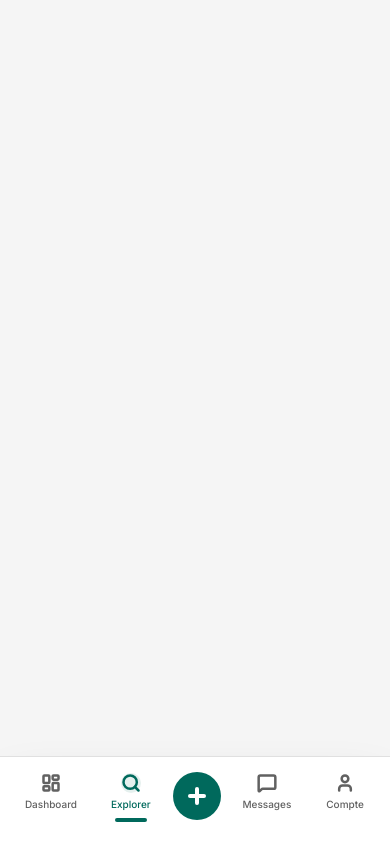
it: BottomNav - logique metier › ouvre le menu Creer au clic sur le bouton central
The image size is (390, 844).
expect the text "gérer mes voyages" is not shown: met
Click the button with class "lucide-plus". click: (197,796)
box: [173,772,221,820]
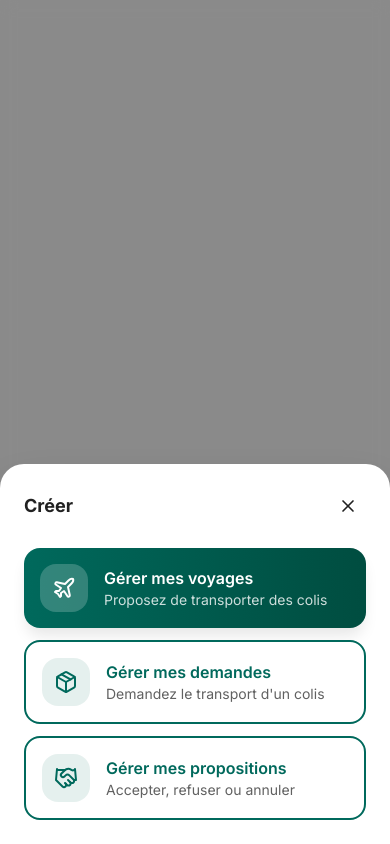
expect the text "Gérer mes voyages" is shown: met, box [104,568,253,588]
